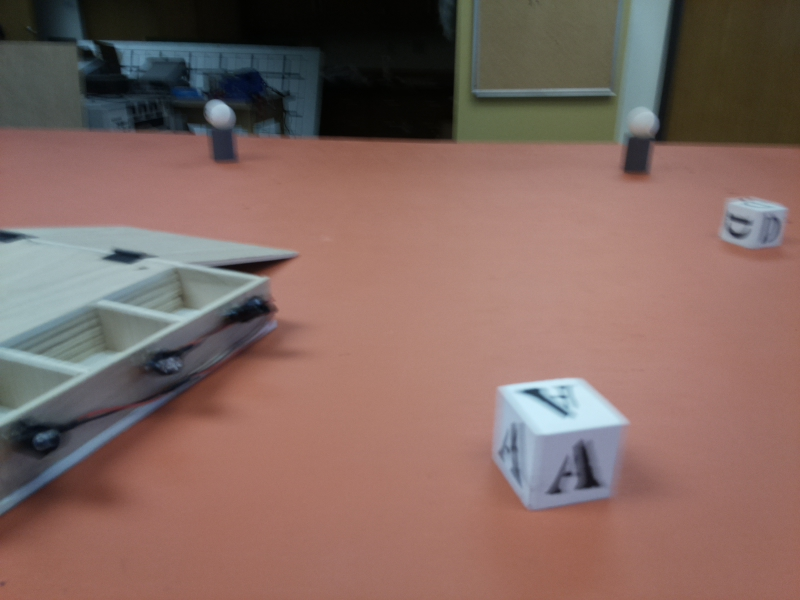blockA: (494, 377, 623, 505)
blockD: (723, 196, 785, 250)
obstacle: (619, 109, 660, 178), (205, 102, 239, 168)
side: (27, 284, 283, 485)
slope: (10, 215, 289, 273)
